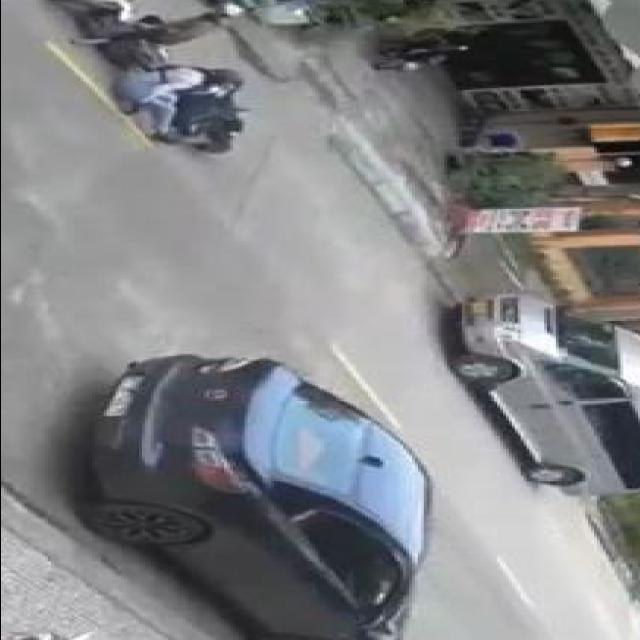accident: (30, 0, 282, 158)
